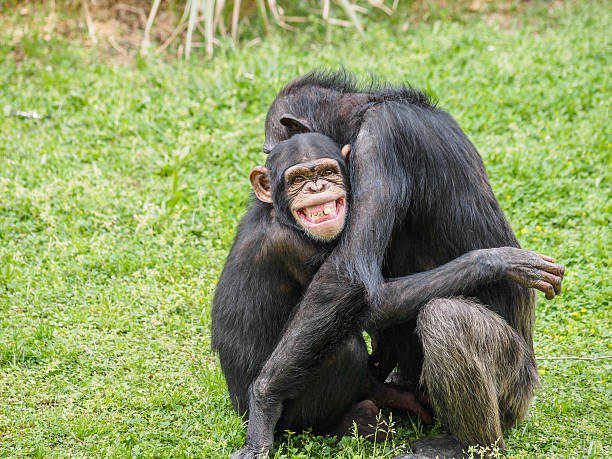chimpanzee: (240, 120, 356, 254)
